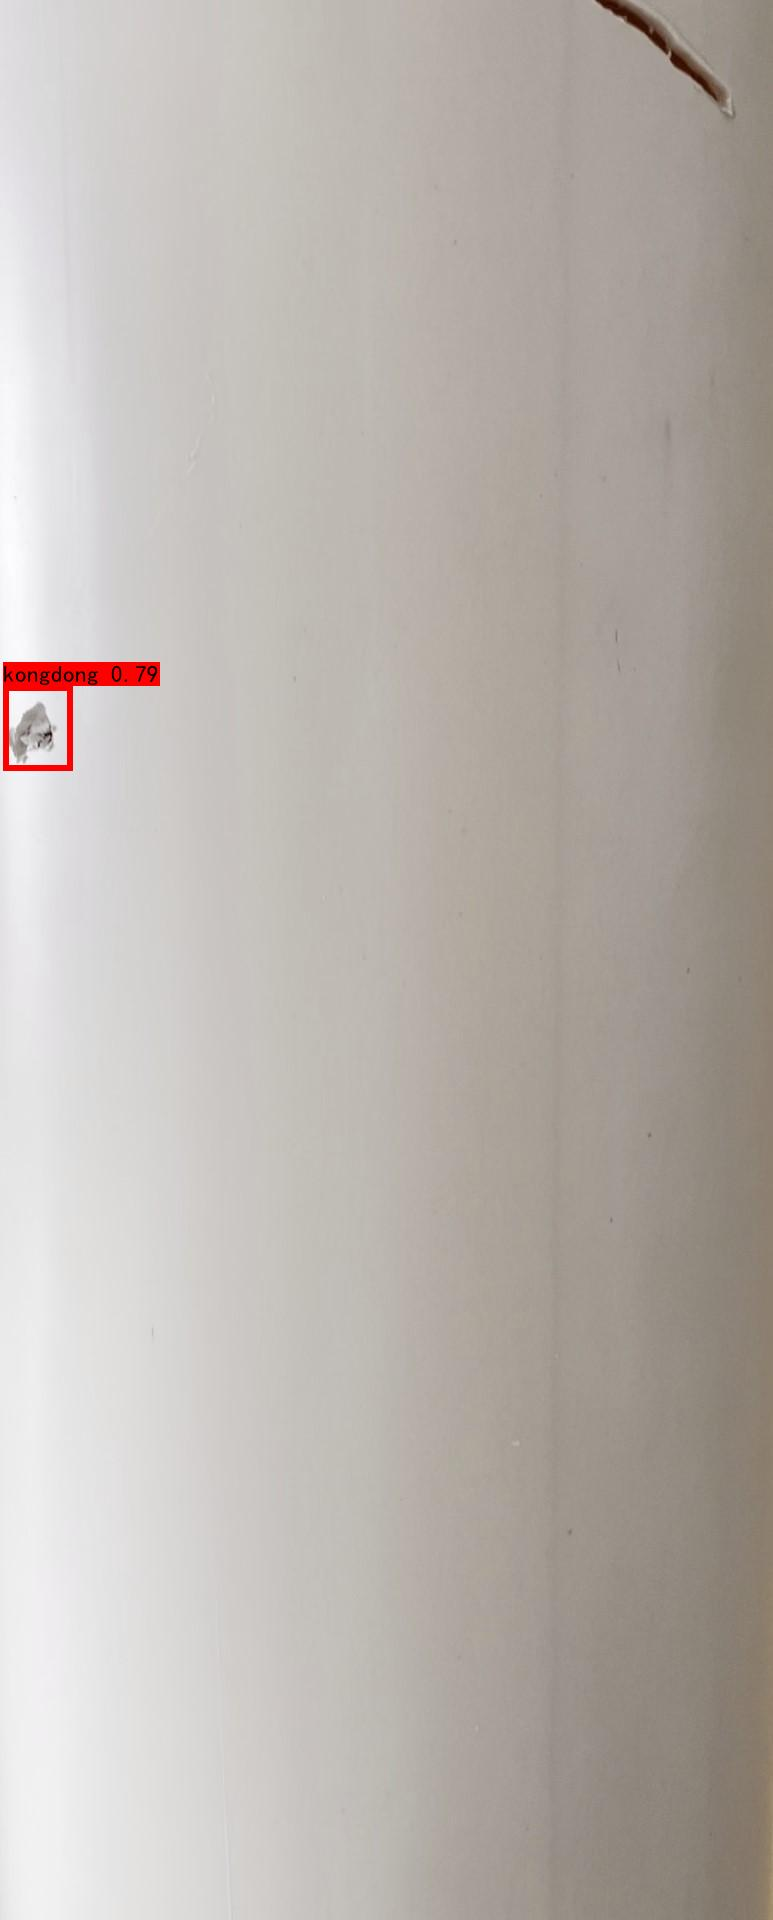fengxi: (601, 1, 737, 129)
kongdong: (4, 696, 72, 760)
